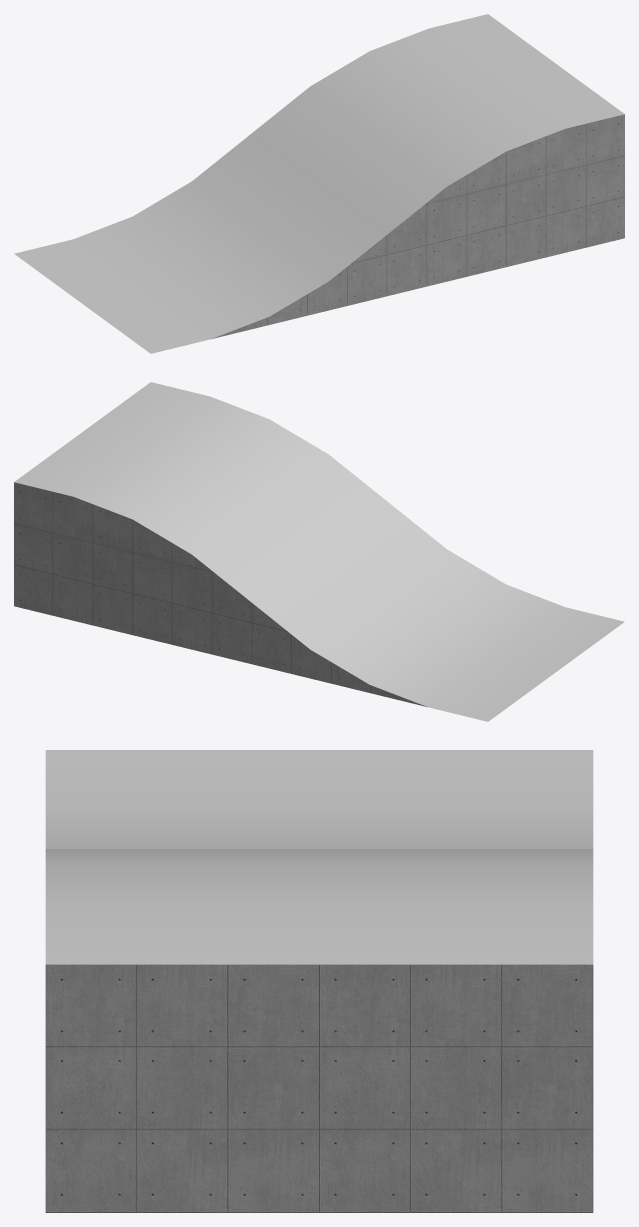
File: BRIDGE ENTRANCE.fbx
The picture shows the model from 3 angles, top to bottom: view 1: azimuth 30°, elevation 25°; view 2: azimuth 150°, elevation 25°; view 3: azimuth 270°, elevation 25°; orthographic projection. The views are drawn at different scales.
Visible parts, largest first — view 1: KOPRU ENTRANCE; view 2: KOPRU ENTRANCE; view 3: KOPRU ENTRANCE.
Boxes of the visible parts, x1=… form: KOPRU ENTRANCE: x1=14, y1=14, x2=624, y2=353; KOPRU ENTRANCE: x1=14, y1=382, x2=624, y2=721; KOPRU ENTRANCE: x1=45, y1=750, x2=593, y2=1212.
Bounding box in the file's own units: 1200 × 300 × 600.
